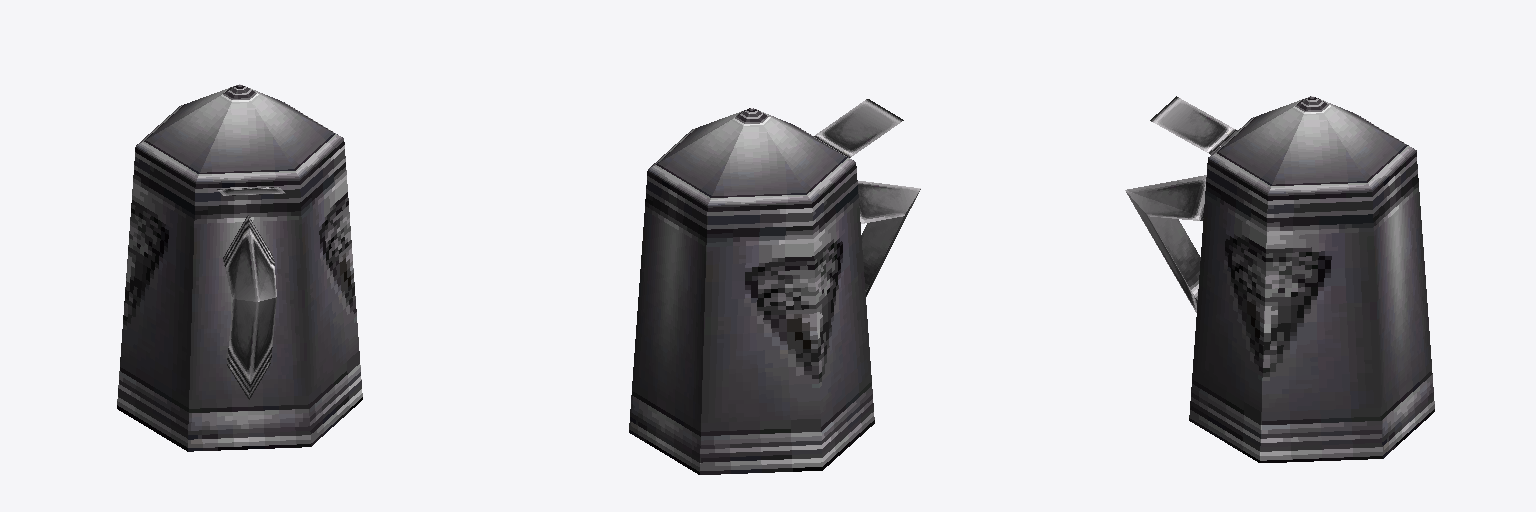
The picture shows the model from 3 angles: view 1: azimuth 30°, elevation 25°; view 2: azimuth 150°, elevation 25°; view 3: azimuth 270°, elevation 25°; orthographic projection.
Visible parts, largest first — view 1: stein.m2; view 2: stein.m2; view 3: stein.m2.
Part boxes in pixels (bbox=[...]): stein.m2: bbox=[117, 84, 362, 451]; stein.m2: bbox=[629, 99, 920, 474]; stein.m2: bbox=[1125, 96, 1434, 462].
Size of the model in its own units: 0.1996 by 0.315 by 0.2768.
Materials: 3 (3 with a texture image).